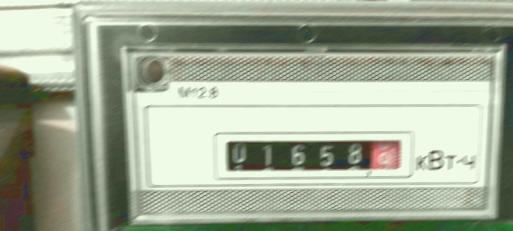0: (231, 139, 245, 161)
1: (261, 141, 272, 164)
5: (318, 141, 333, 164)
6: (289, 141, 304, 163)
8: (346, 139, 361, 162)
9: (375, 148, 389, 169)
screen: (207, 120, 420, 185)
